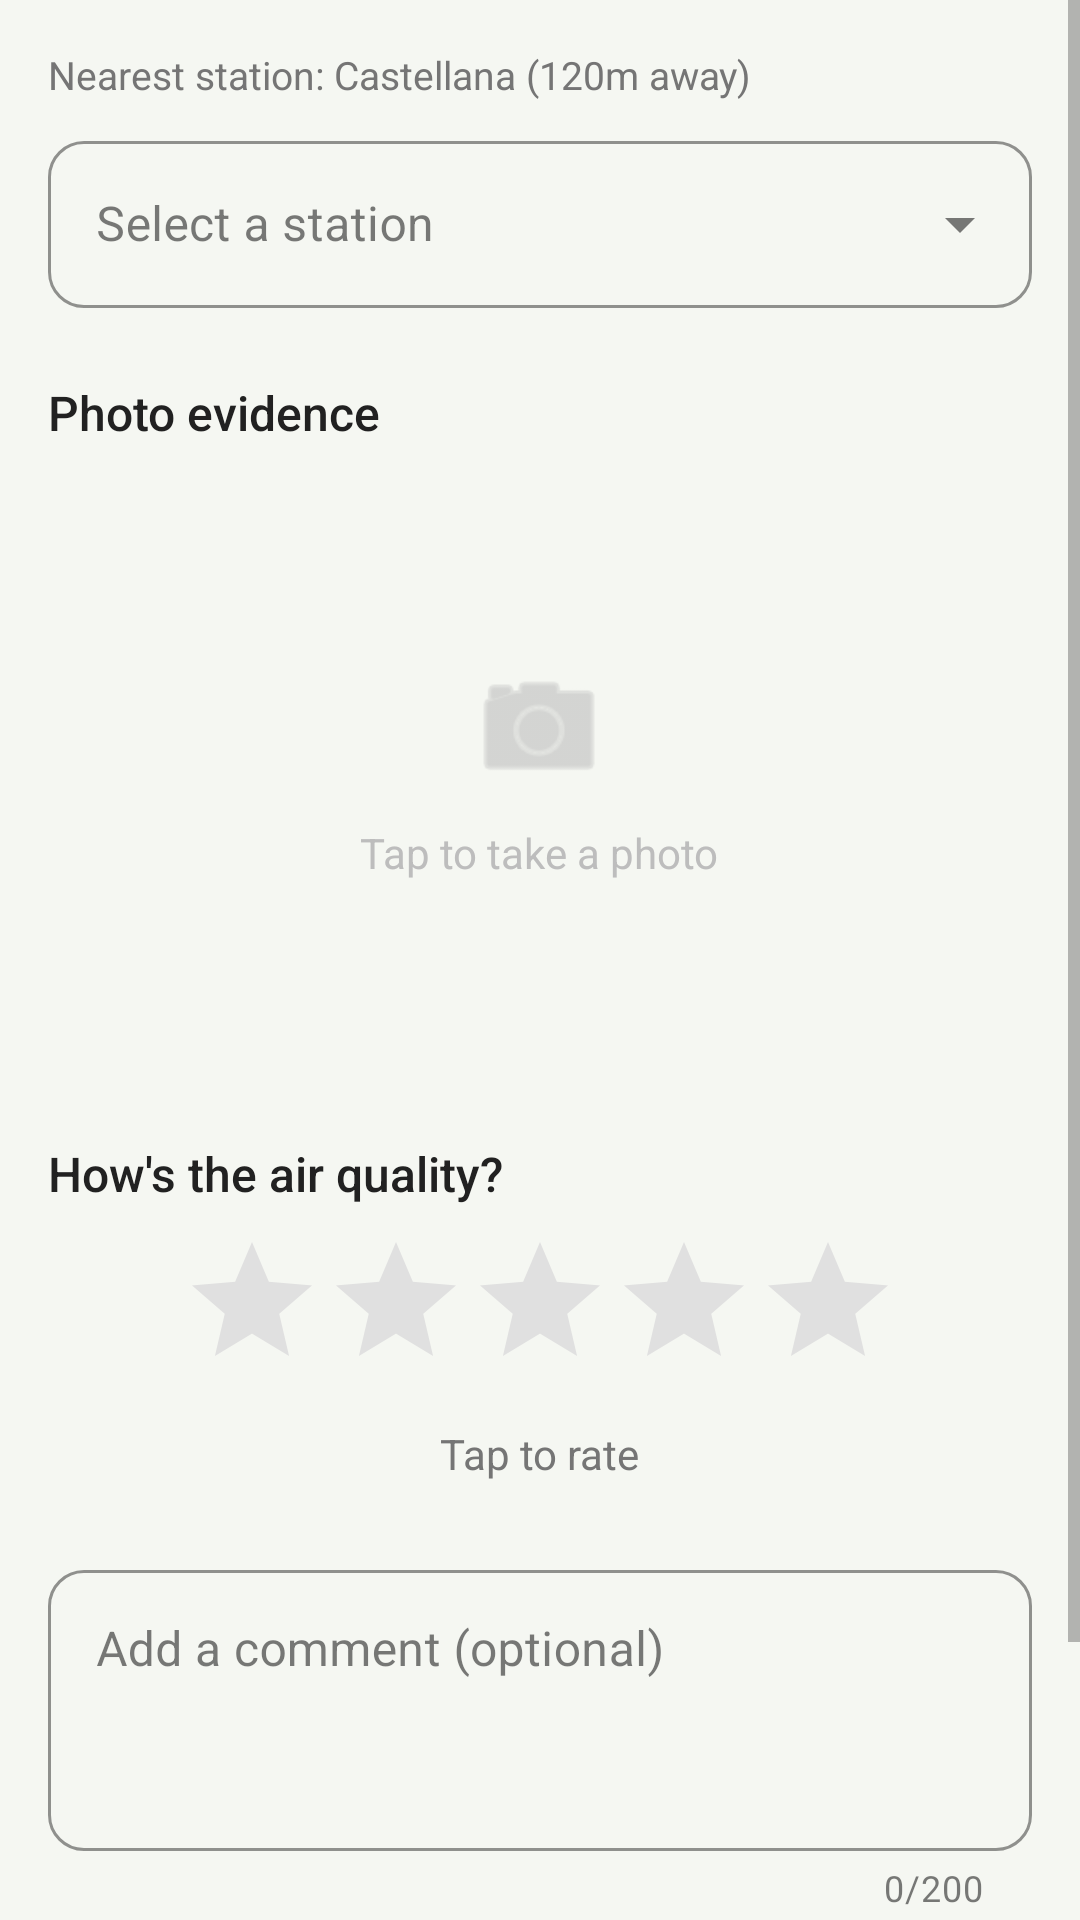

Named icons in this screenshot (1080 × 1920) and their centers, point (x, y):
Camera icon: point (539, 726)
